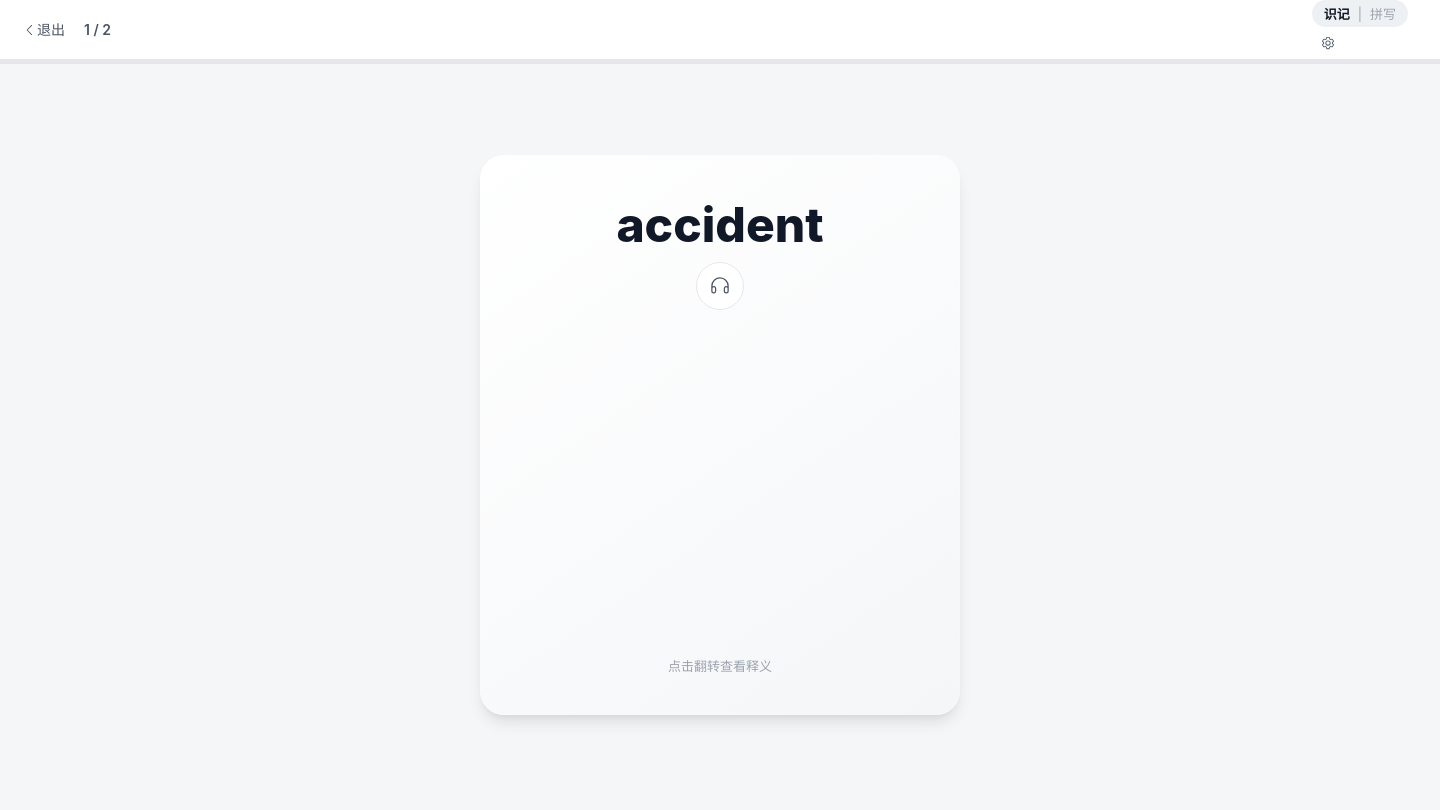
Test case: VocabularyReview.vue › does not reuse the flipped card when marking 认识
This screenshot has width=1440, height=810.
Expected: the text with class "word-primary" reads "accident", [616,195,824,254]
Click the element with class "flip-card-wrapper".
click(720, 435)  # box [480,155,960,715]
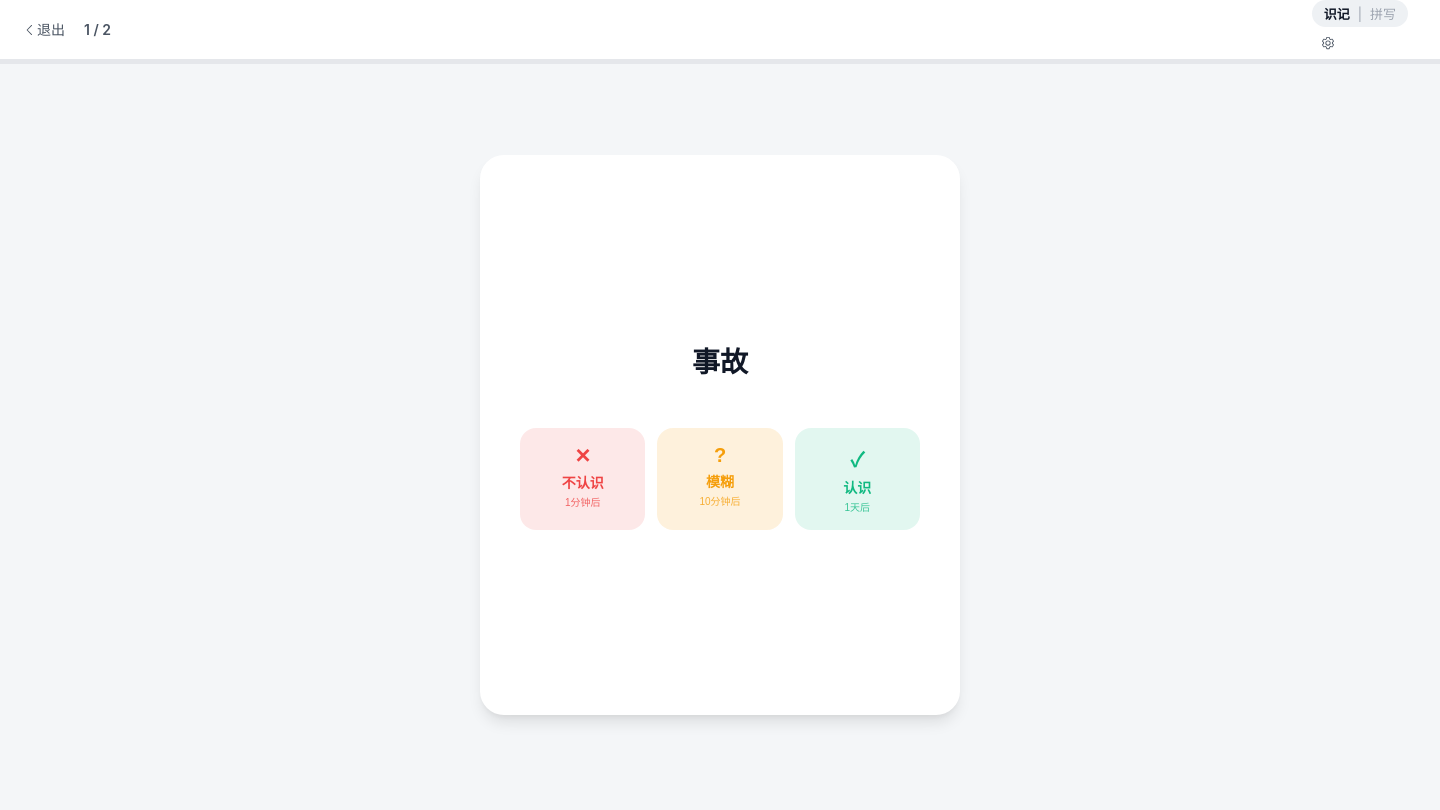
Now the element with class "flip-card-wrapper" has class "flipped", box [480,155,960,715]
Click the button with class "known".
click(857, 479)  # box [795,428,920,530]
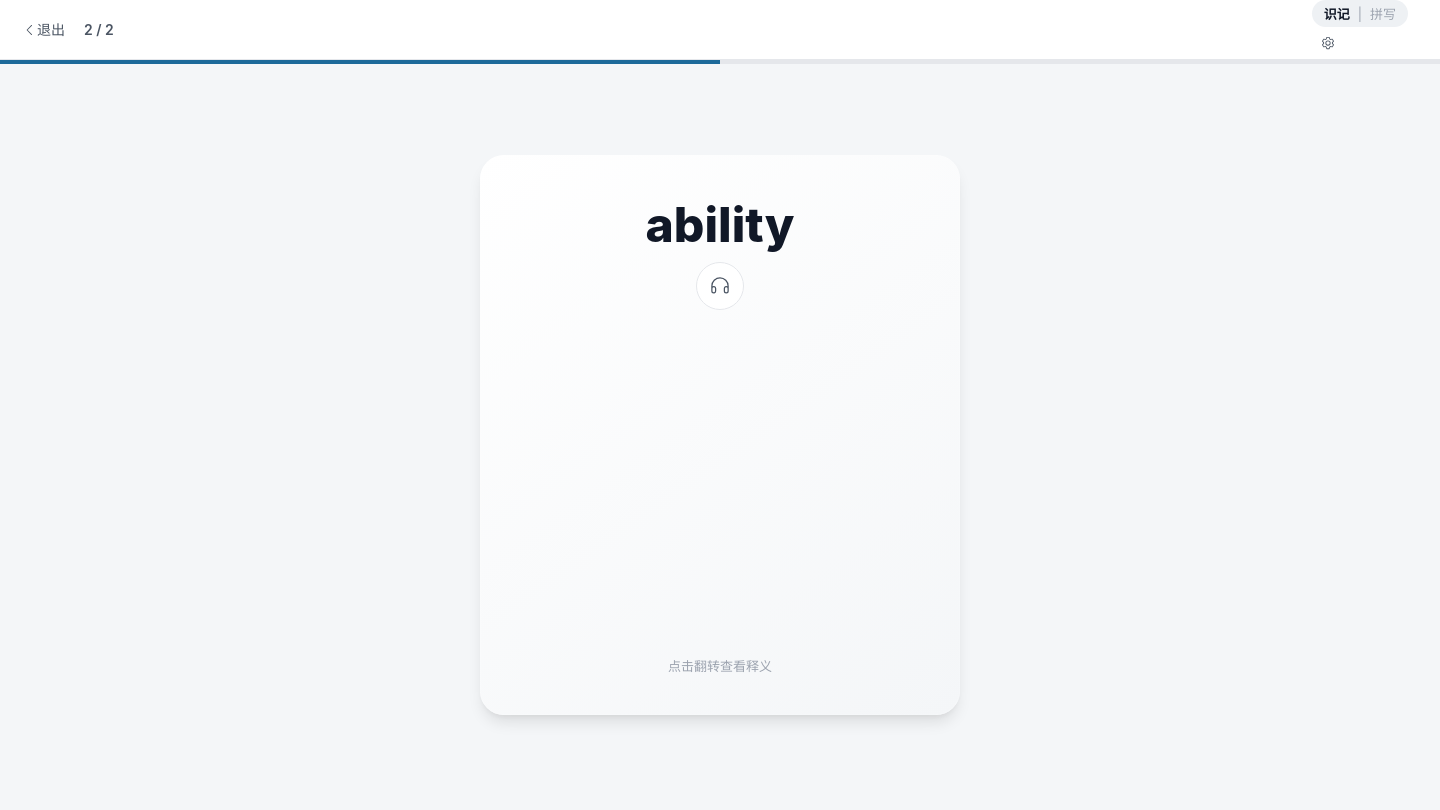
Now the text with class "word-primary" reads "ability", box [646,195,794,254]
